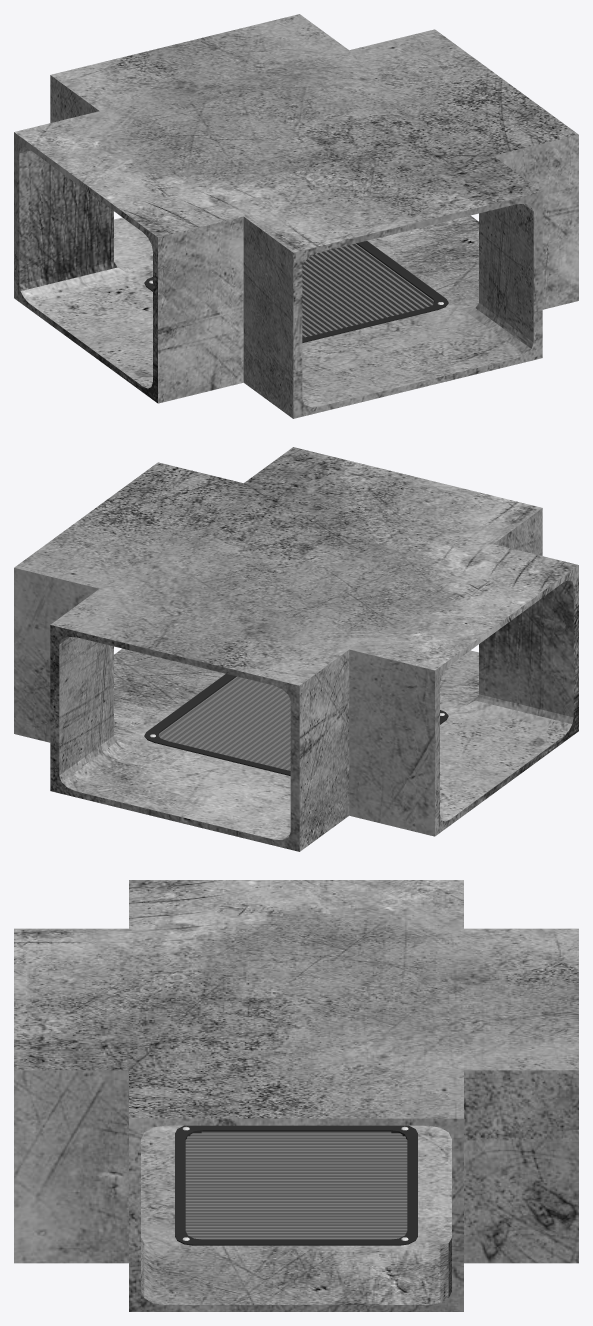
The model's file is vent_cross+holes.fbx.
3 renders of one model, top to bottom at view 1: azimuth 30°, elevation 25°; view 2: azimuth 150°, elevation 25°; view 3: azimuth 270°, elevation 25°, orthographic. The views are drawn at different scales.
Parts seen in each view (by area): view 1: Cube.009, Cube.015, Cube.014; view 2: Cube.009, Cube.015, Cube.014; view 3: Cube.009, Cube.015, Cube.014.
Part boxes in pixels (x1,y1,x2,y2): Cube.009: [14, 14, 578, 418]; Cube.015: [302, 243, 434, 337]; Cube.014: [144, 241, 448, 342]; Cube.009: [14, 447, 578, 851]; Cube.015: [158, 676, 290, 770]; Cube.014: [144, 674, 448, 775]; Cube.009: [14, 880, 578, 1311]; Cube.015: [185, 1131, 407, 1239]; Cube.014: [175, 1125, 417, 1245].
Bounding box in the file's own units: 4000 × 1558 × 4000.
